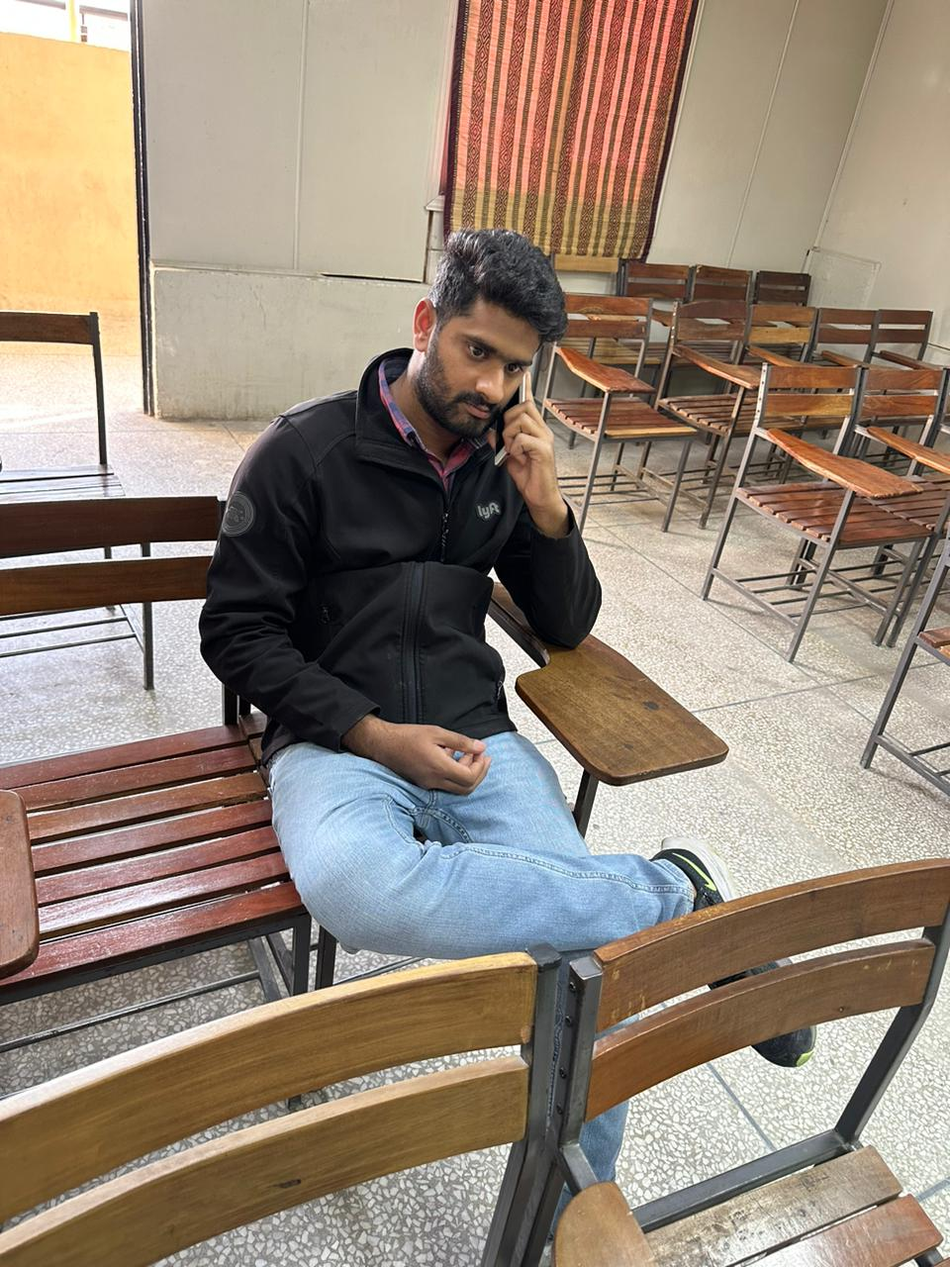phone: (492, 370, 545, 470)
